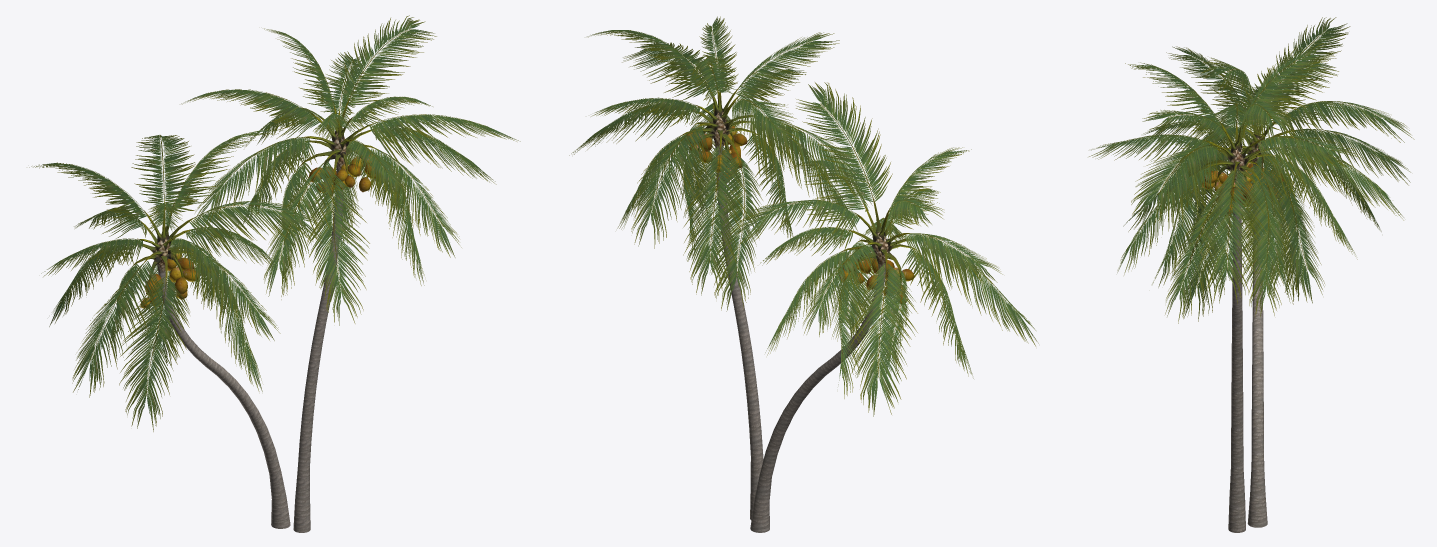
Rendered from lcoconut tree.glb.
The picture shows the model from 3 angles, left to right: view 1: azimuth 30°, elevation 25°; view 2: azimuth 150°, elevation 25°; view 3: azimuth 270°, elevation 25°; orthographic projection. The views are drawn at different scales.
Parts seen in each view (by area): view 1: Tree_2, Tree_0, Tree_3, Tree_4; view 2: Tree_2, Tree_0, Tree_3, Tree_4, Tree_1; view 3: Tree_2, Tree_0, Tree_3, Tree_4.
Part boxes in pixels (x1,y1,x2,y2): Tree_2: [29, 15, 520, 431]; Tree_0: [158, 170, 343, 532]; Tree_3: [132, 97, 378, 295]; Tree_4: [140, 154, 375, 308]; Tree_2: [569, 16, 1038, 416]; Tree_0: [716, 152, 885, 532]; Tree_3: [679, 82, 917, 292]; Tree_4: [685, 126, 914, 305]; Tree_1: [712, 112, 888, 269]; Tree_2: [1089, 17, 1414, 323]; Tree_0: [1228, 201, 1267, 532]; Tree_3: [1204, 112, 1296, 202]; Tree_4: [1202, 162, 1283, 217].
Bounding box in the file's own units: 6.3 × 6.28 × 4.02.
Materials: 5 (5 with a texture image).
